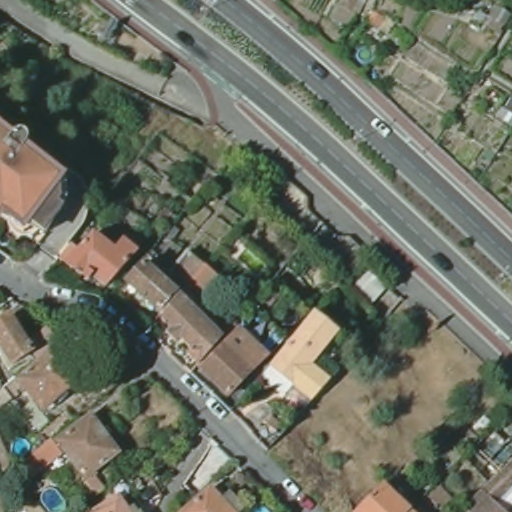pool: (38, 484, 69, 510), (9, 434, 33, 460)
